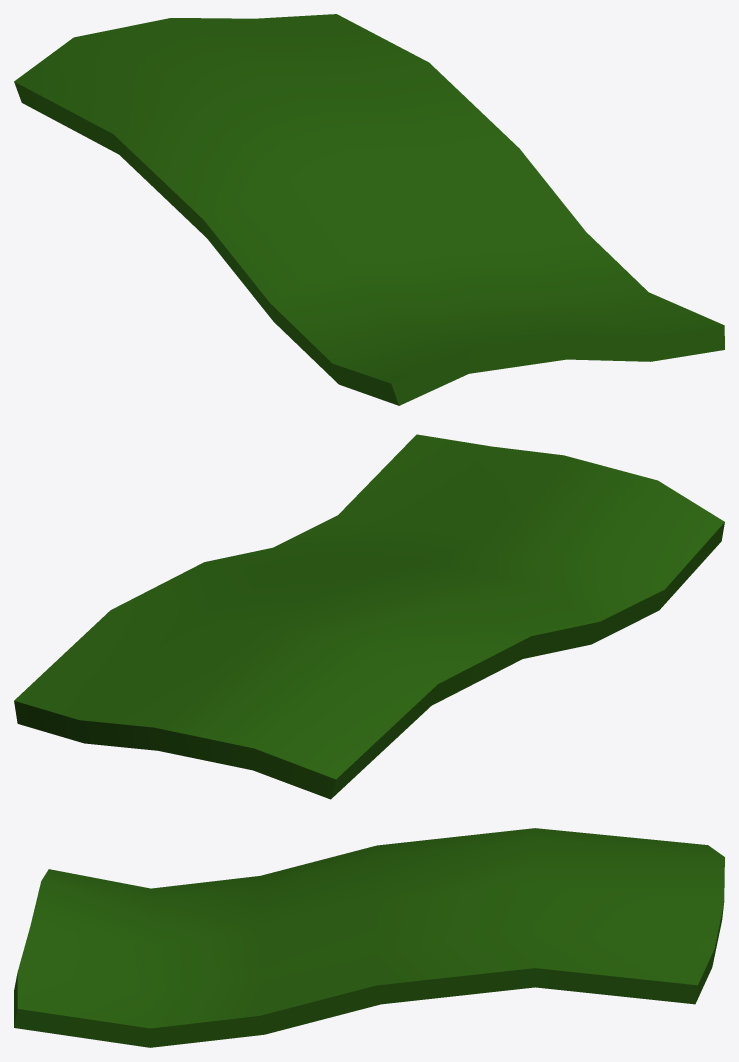
File: m_baconStrip.FBX
The picture shows the model from 3 angles, top to bottom: view 1: azimuth 30°, elevation 25°; view 2: azimuth 150°, elevation 25°; view 3: azimuth 270°, elevation 25°; orthographic projection. The views are drawn at different scales.
Visible parts, largest first — view 1: m_baconStrip; view 2: m_baconStrip; view 3: m_baconStrip.
Boxes of the visible parts, x1,y1,x2,y2 form: m_baconStrip: (14, 14, 724, 405); m_baconStrip: (14, 434, 724, 799); m_baconStrip: (14, 828, 724, 1047).
Size of the model in its own units: 23.92 by 8.47 by 53.06.
